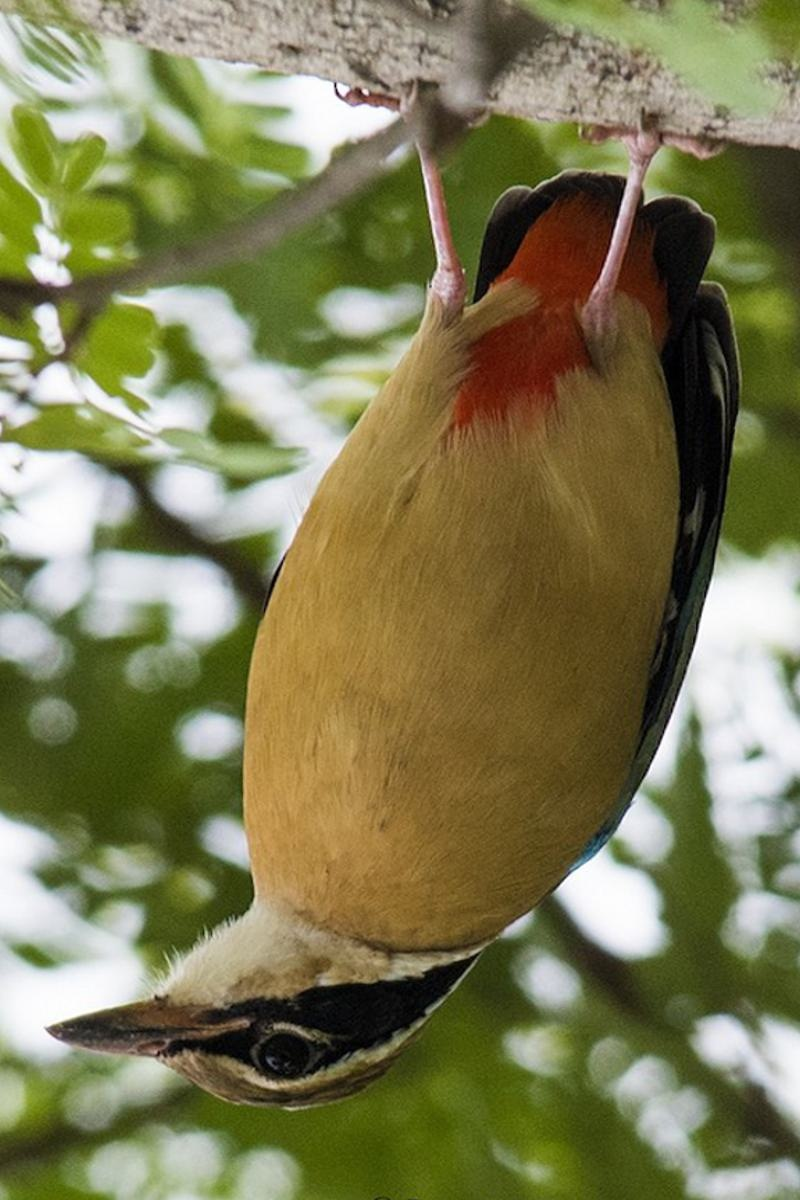pitta: (39, 115, 756, 1128)
